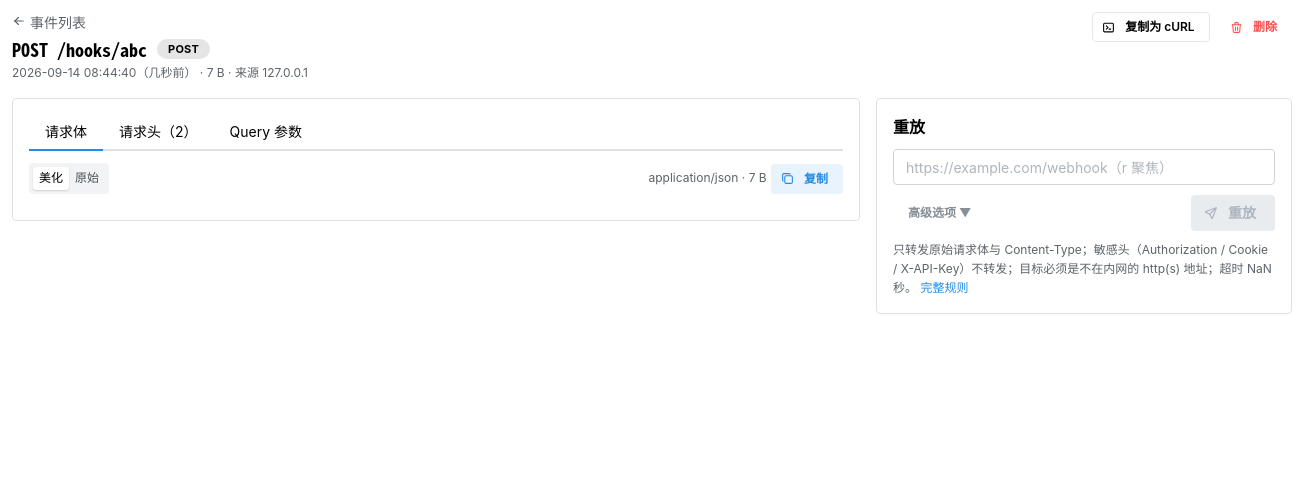
Scenario: EventScreen replay failures › counts the cooldown down and re-enables the button
The image size is (1304, 504).
expect the heading "POST /hooks/abc" is shown: met, box [12,36,147,62]
Type "http://example.com/hook" into the field named "重放目标地址" at coordinates (1084, 167), box [893,149,1275,185]
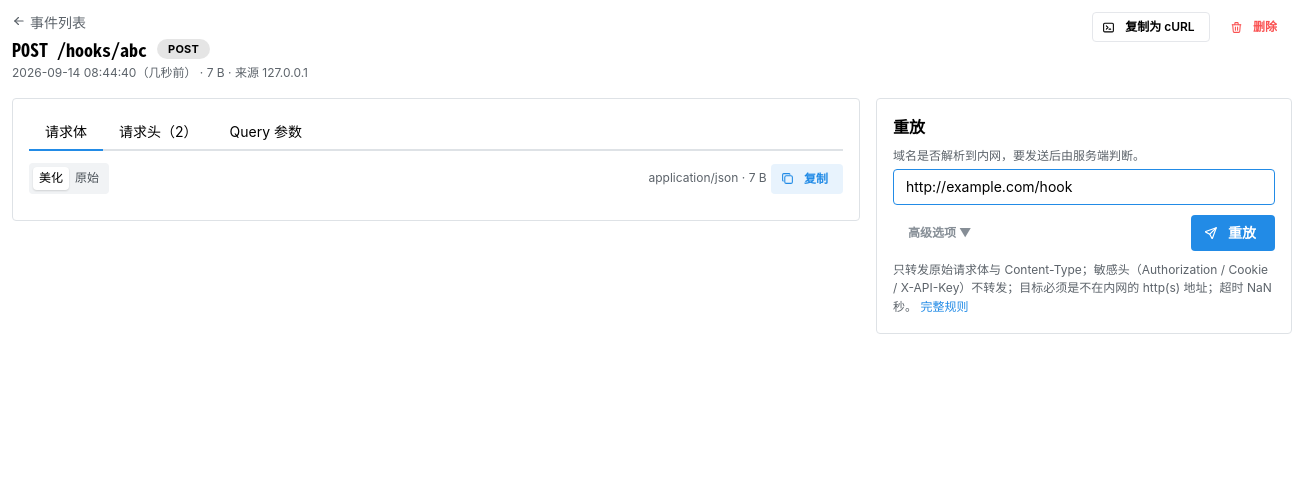
Click the button "重放" at coordinates (1233, 233), box [1191,215,1275,251]
Wait 31000 ms
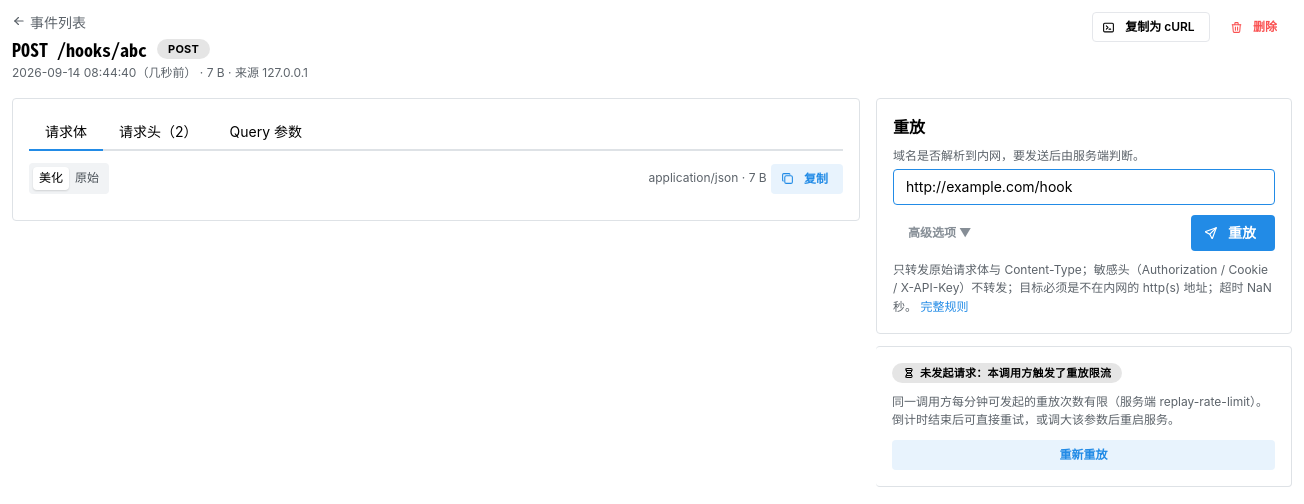
expect the button "重新重放" is enabled: met, box [892,440,1275,470]
